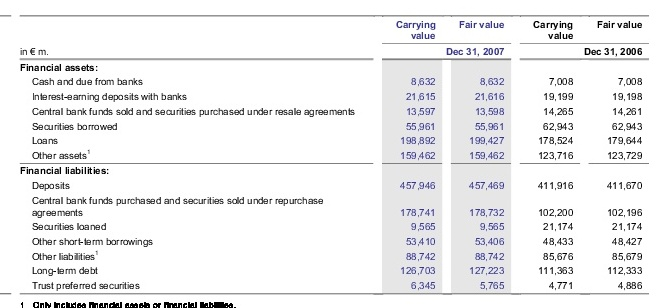table: (0, 0, 661, 308)
